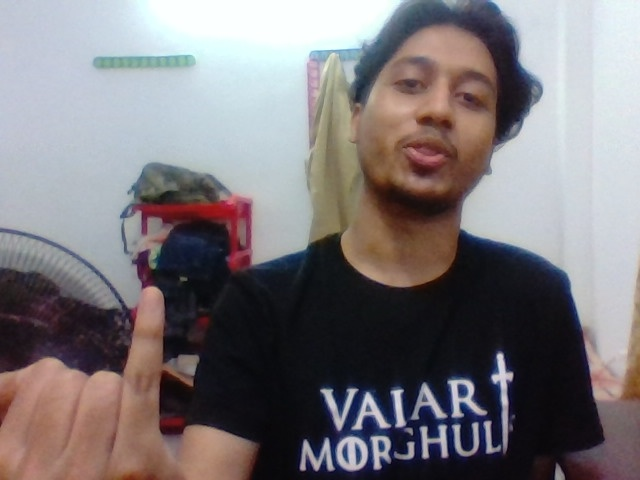I: (13, 265, 194, 480)
